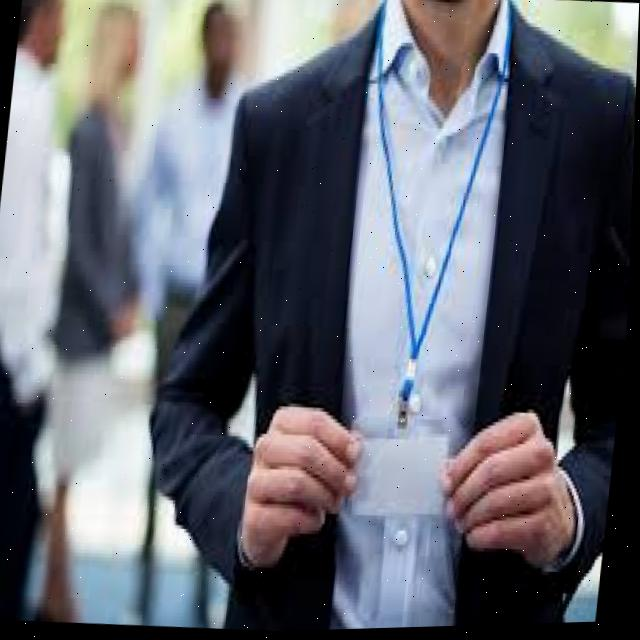id_card: (328, 18, 514, 531)
